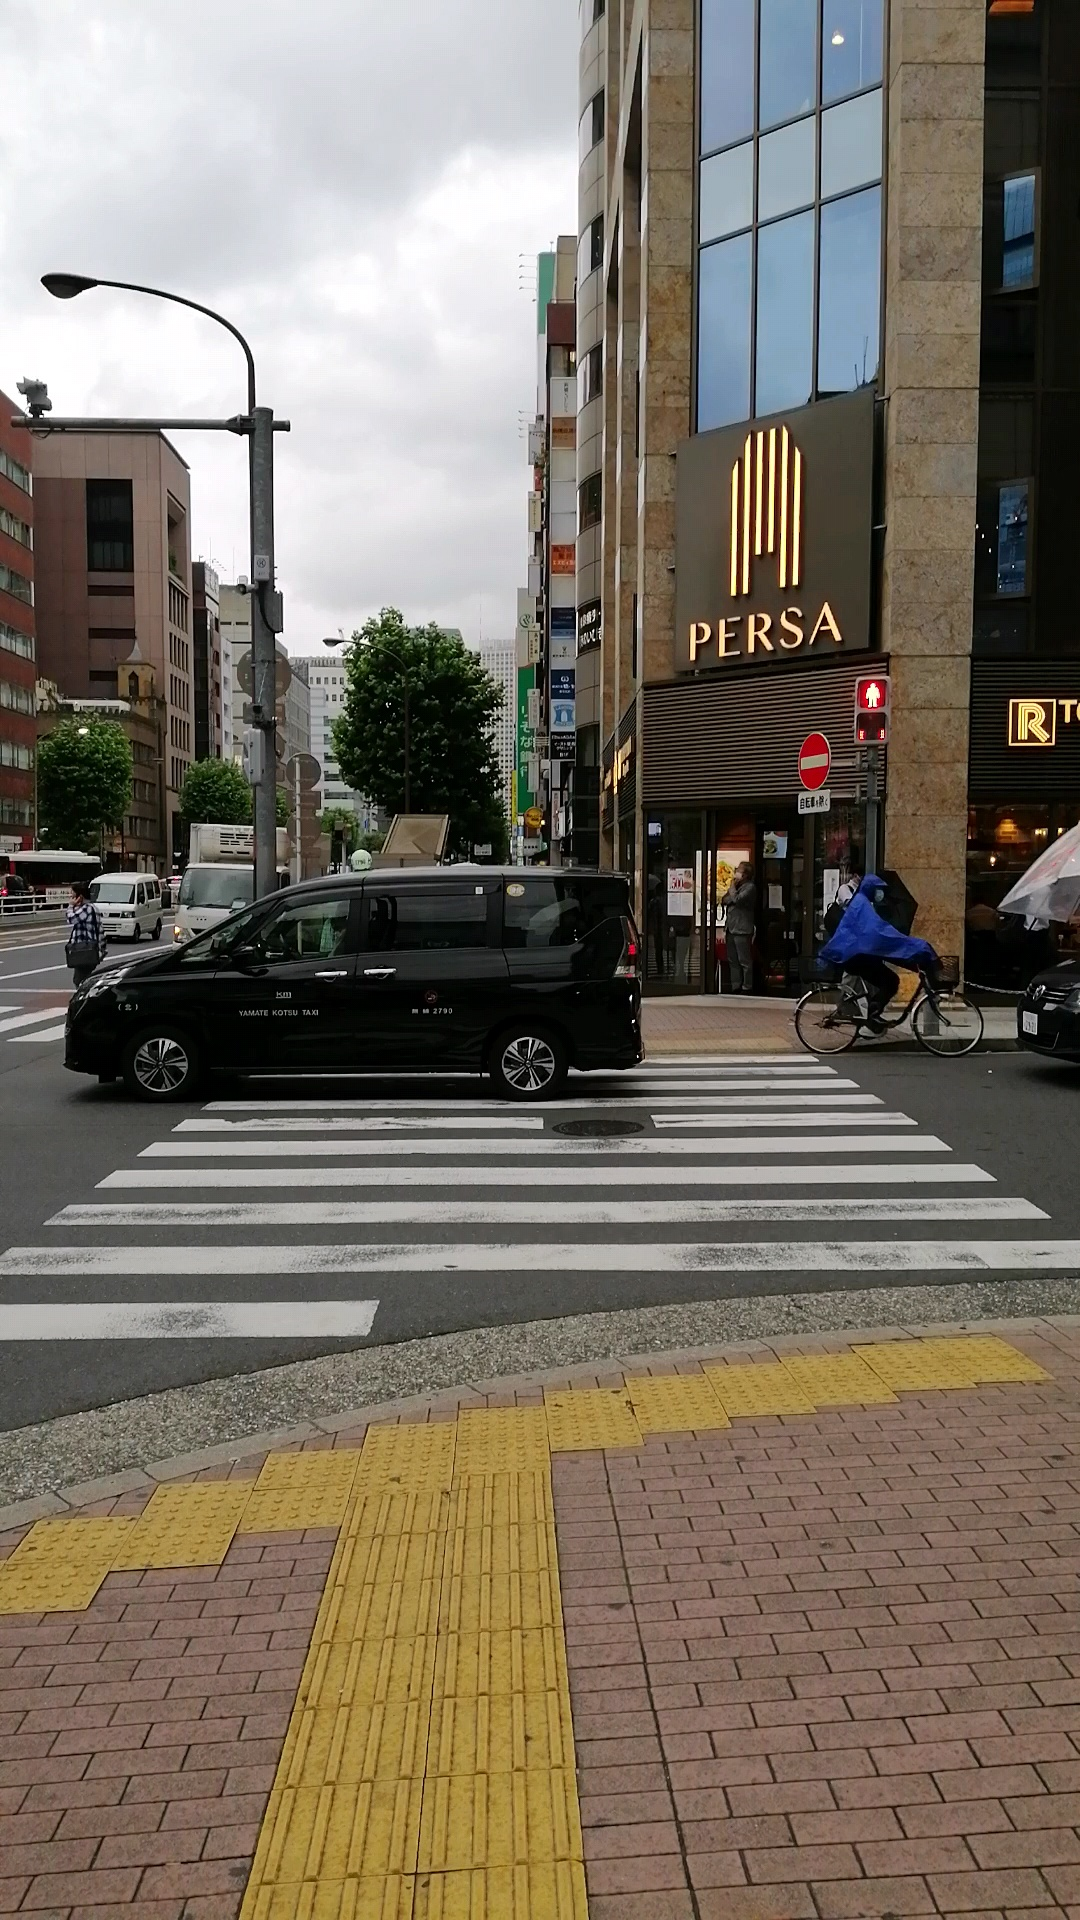red: (851, 673, 889, 746)
